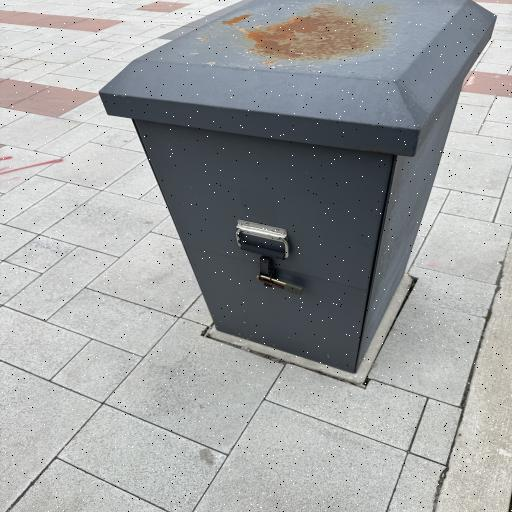Electrical Box: (100, 0, 496, 373)
